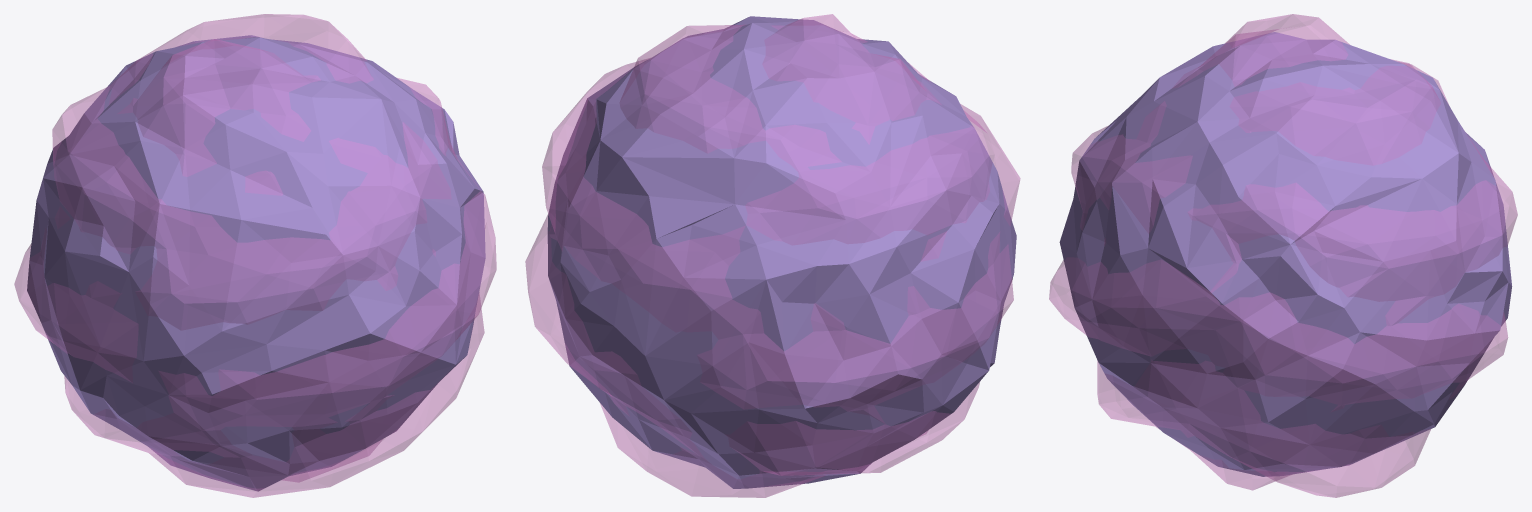
File: gas_planet6.fbx
The picture shows the model from 3 angles, left to right: view 1: azimuth 30°, elevation 25°; view 2: azimuth 150°, elevation 25°; view 3: azimuth 270°, elevation 25°; orthographic projection. The views are drawn at different scales.
Visible parts, largest first — view 1: gas_planet6; view 2: gas_planet6; view 3: gas_planet6.
Part boxes in pixels (x1,y1,x2,y2): gas_planet6: [14, 14, 496, 497]; gas_planet6: [525, 14, 1020, 497]; gas_planet6: [1049, 14, 1517, 497].
Bounding box in the file's own units: 220 × 221 × 218.
